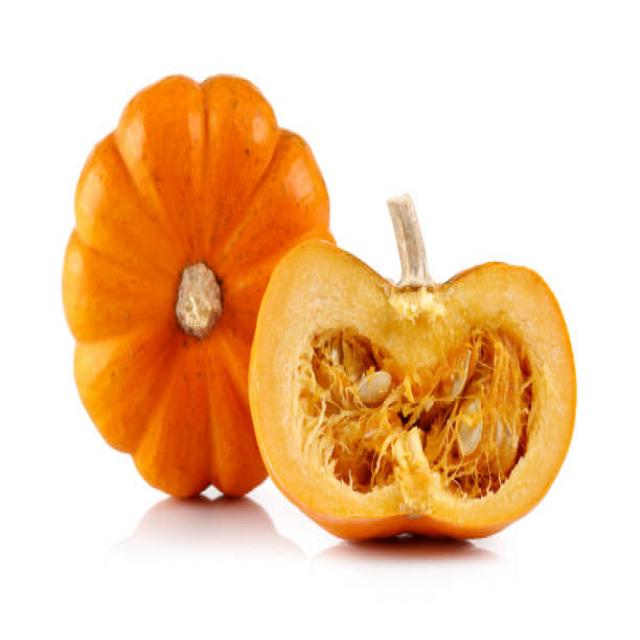pumpkin: (249, 233, 573, 536), (61, 74, 259, 504)
